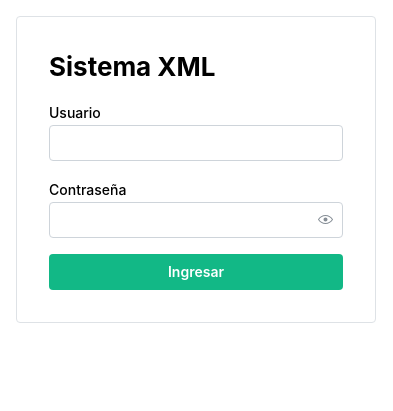
it: muestra el detalle de error en 401
In the field labelled "Usuario": (196, 143) [49,125,343,161], type "x"
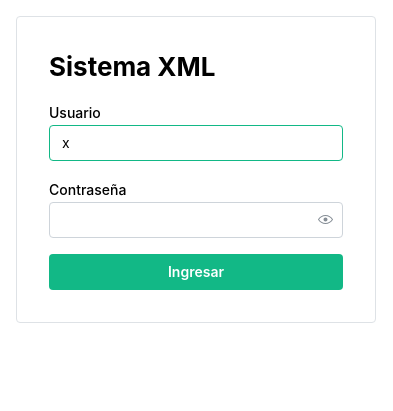
In the password field labelled "Contraseña": (196, 220) [50,203,342,237], type "y"
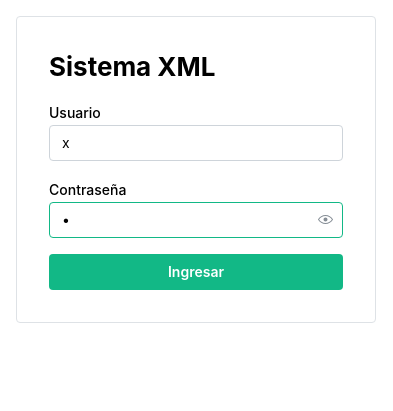
Click the button "Ingresar": (196, 272) [49,254,343,290]
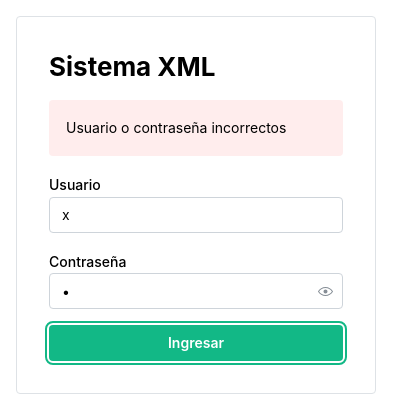
Result: the text "Usuario o contraseña incorrectos" is shown at [66,119,286,136]
